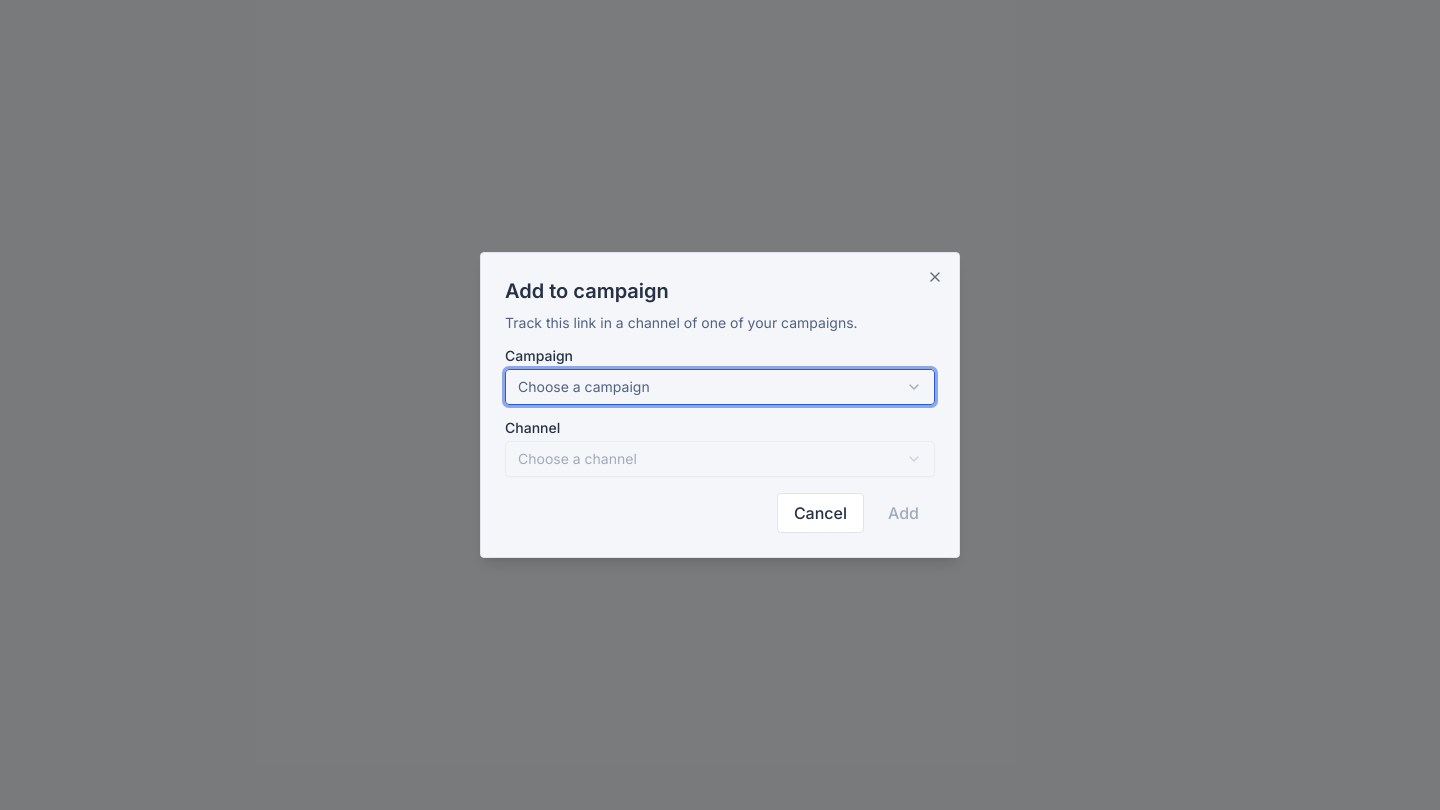
it: AddToCampaignDialog › shows API errors inline and stays open
Click the dropdown labelled "campaign".
click(584, 386)  # box [505, 369, 935, 405]
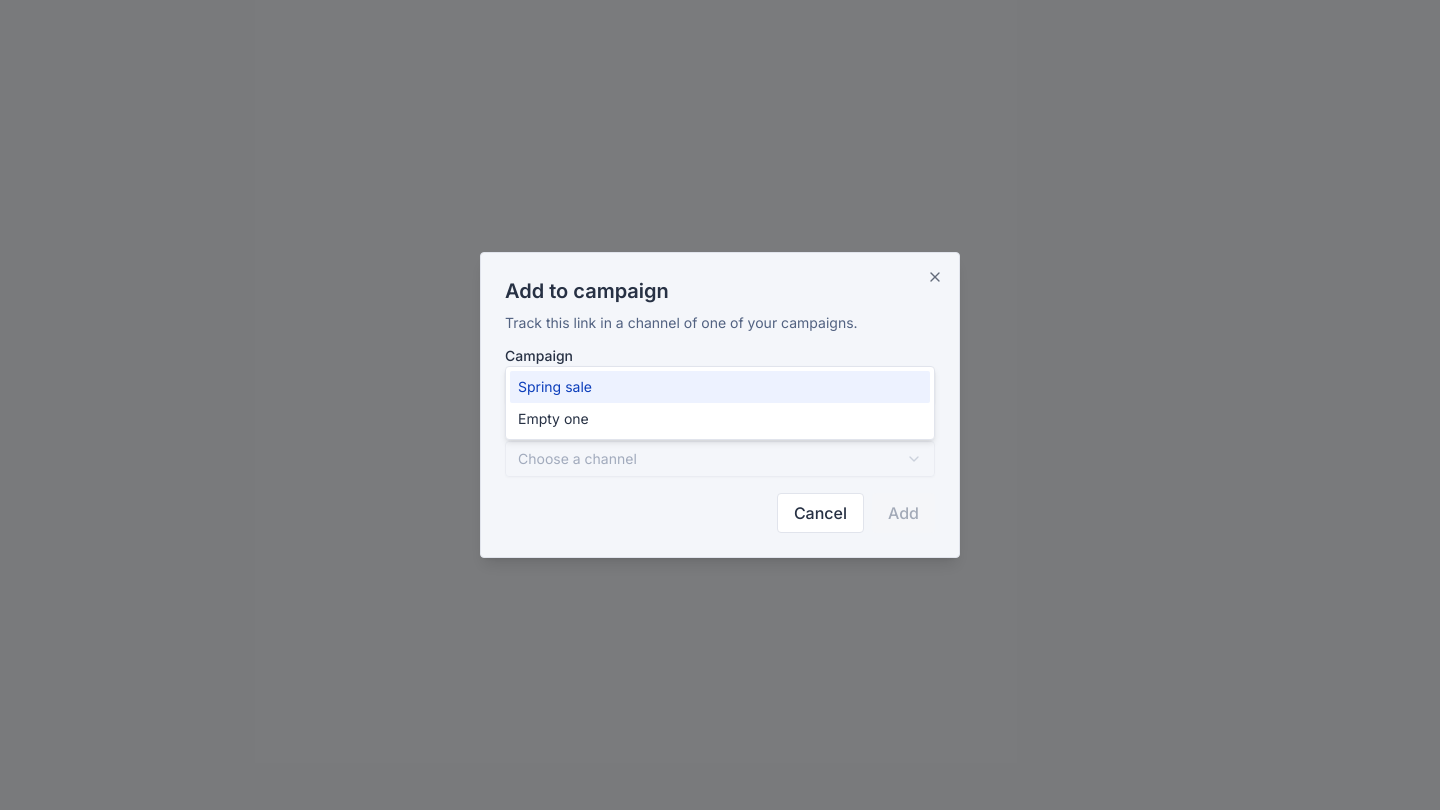
Click the option "Spring sale".
click(555, 386)  # box [510, 371, 930, 403]
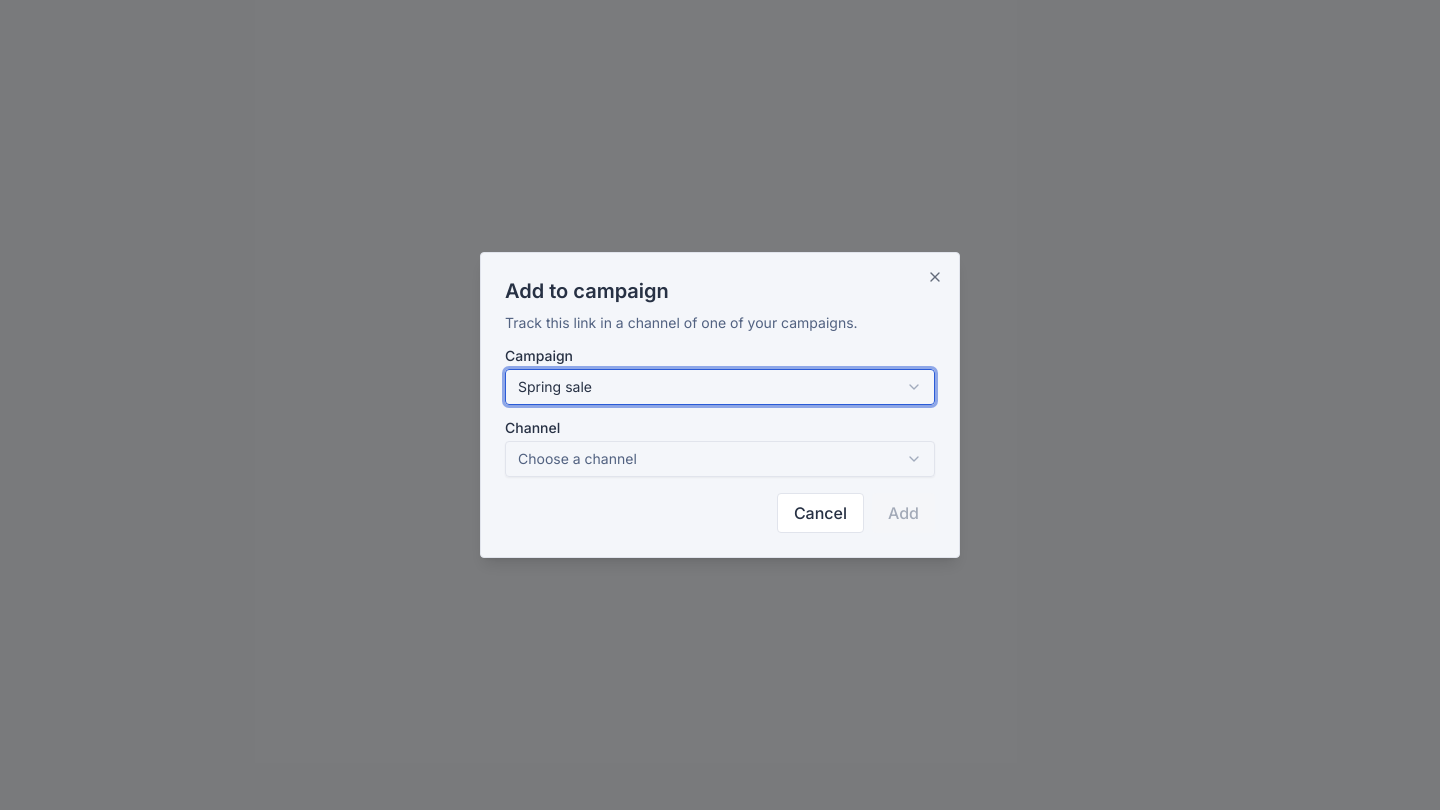
Click the dropdown labelled "channel".
click(577, 458)  # box [505, 441, 935, 477]
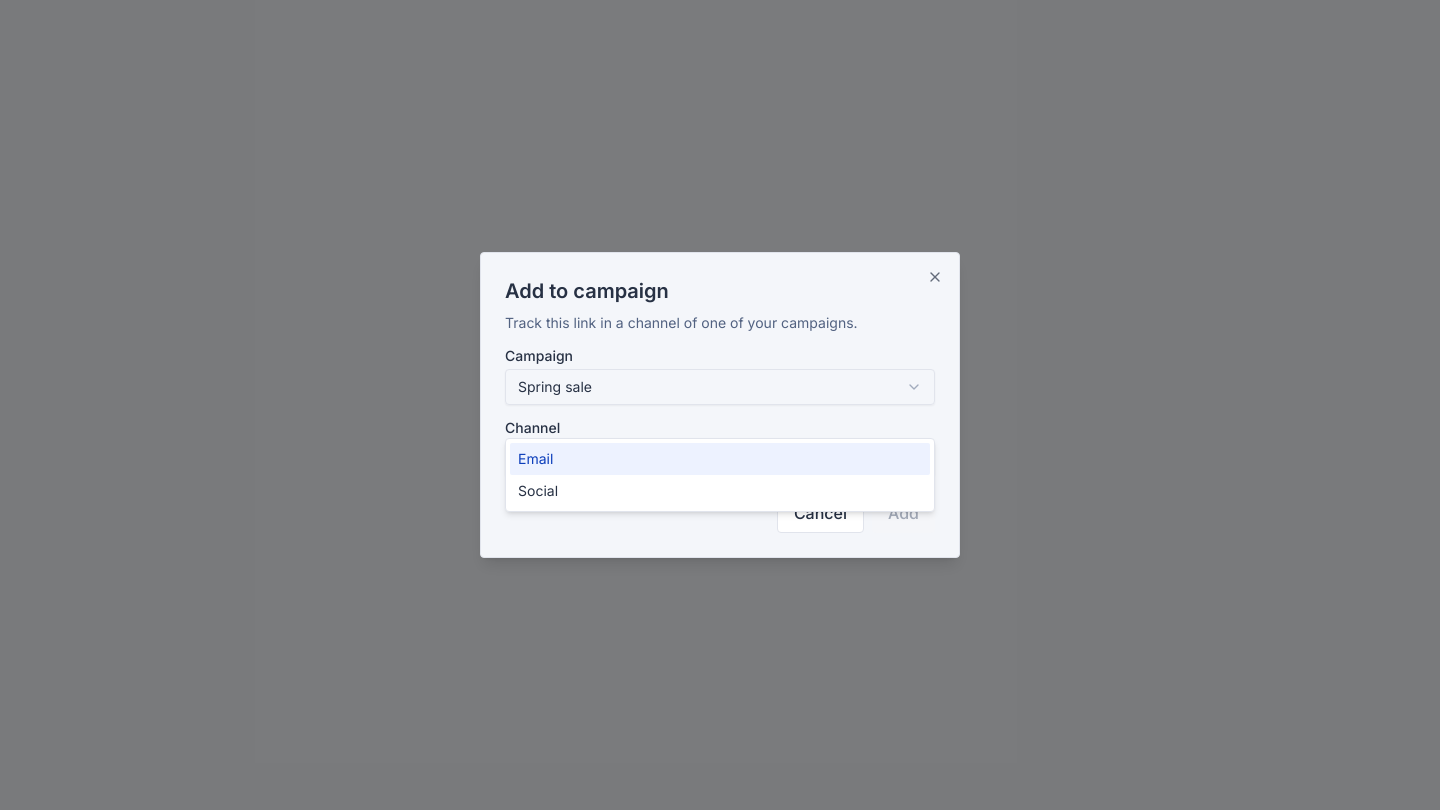
Click the option "Email".
click(536, 458)  # box [510, 443, 930, 475]
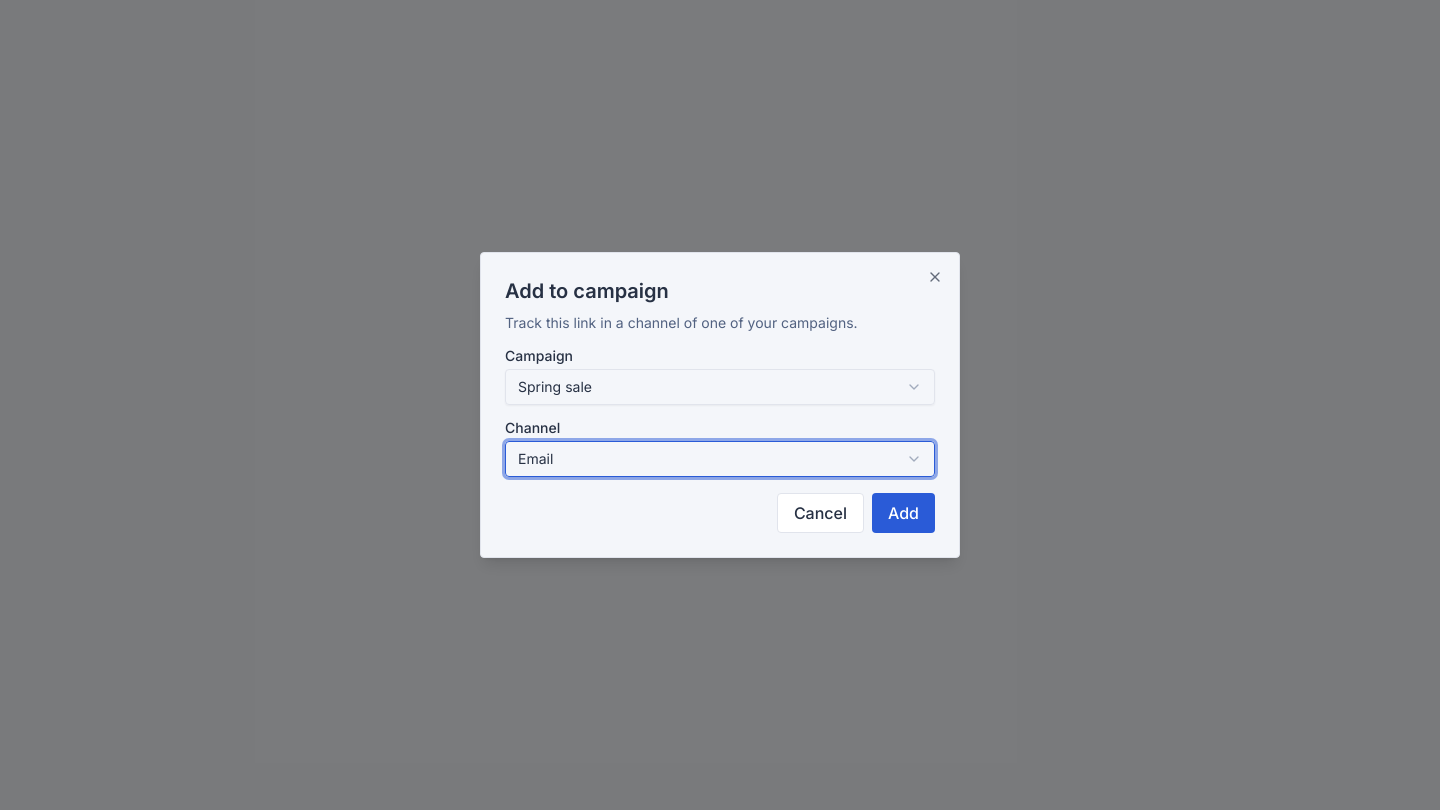
Click the button "Add".
click(904, 513)  # box [872, 493, 935, 533]
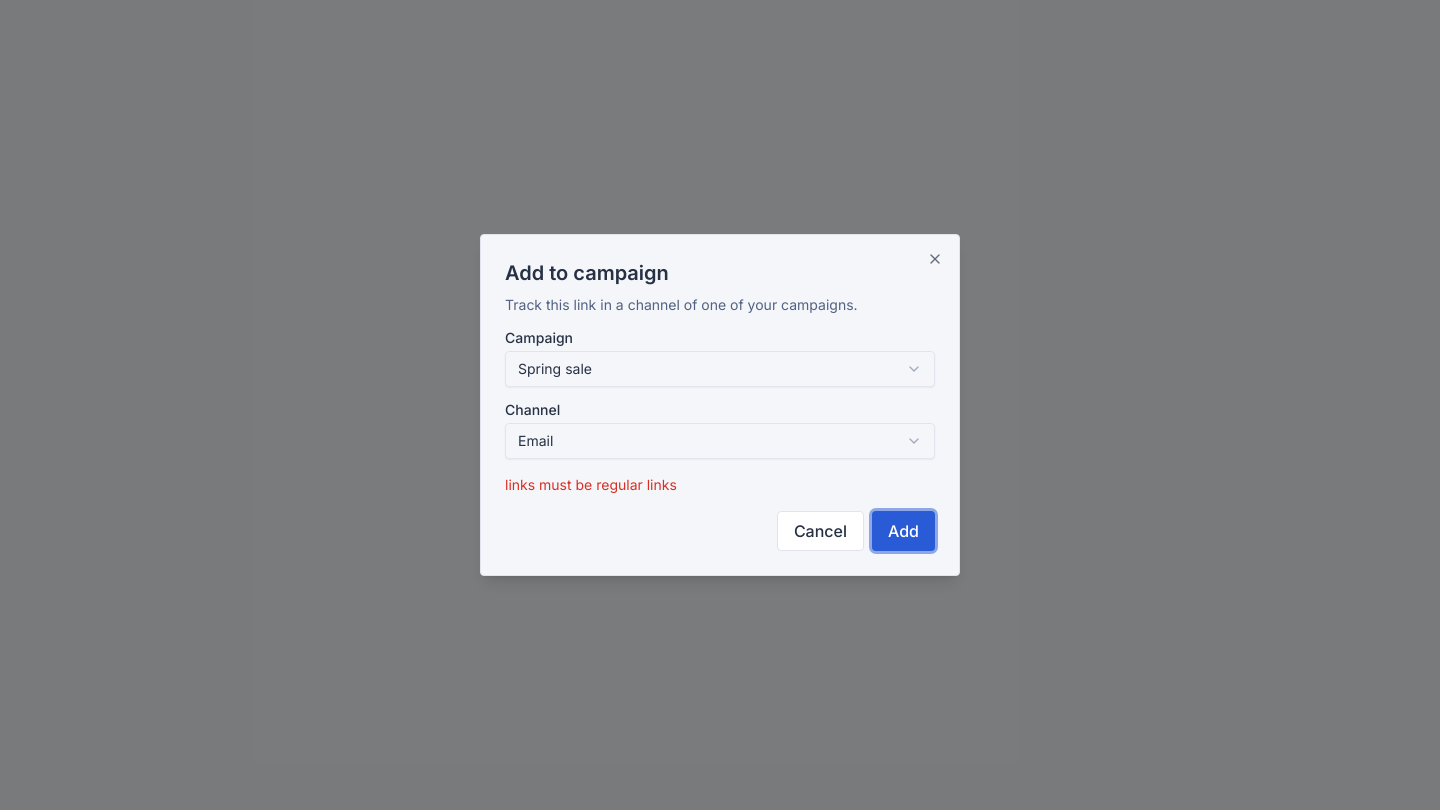
expect the message reads "links must be regular links": met, box [505, 476, 677, 493]
